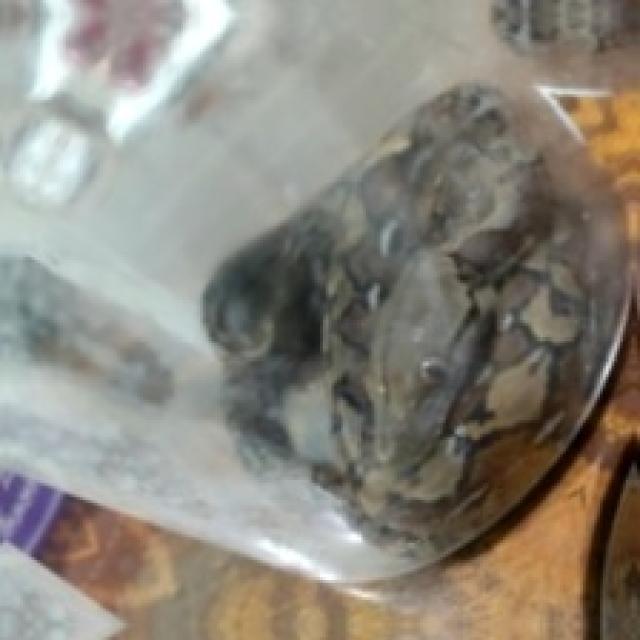reticulated python: (203, 83, 626, 557)
